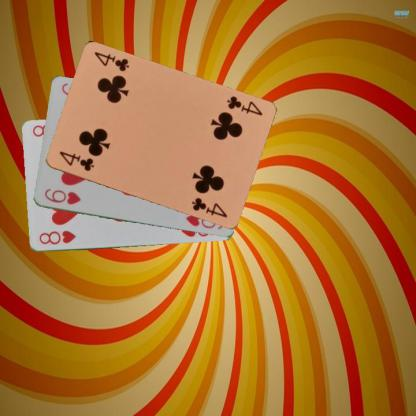4c: (223, 93, 264, 117), (56, 148, 95, 173)
6h: (42, 186, 82, 206)
8h: (36, 228, 77, 246)
